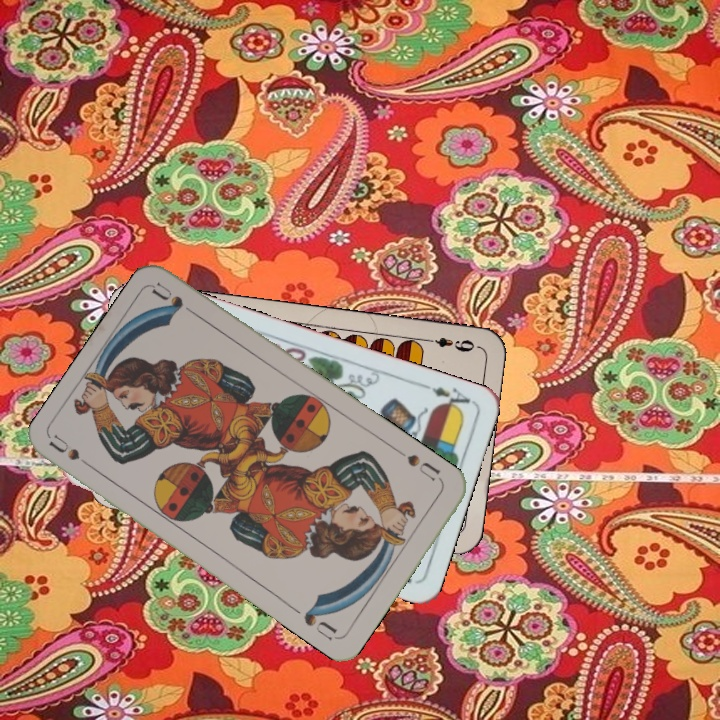E9: (421, 332, 480, 355)
EA: (417, 379, 473, 414)
SU: (46, 431, 100, 475), (393, 446, 445, 485)
